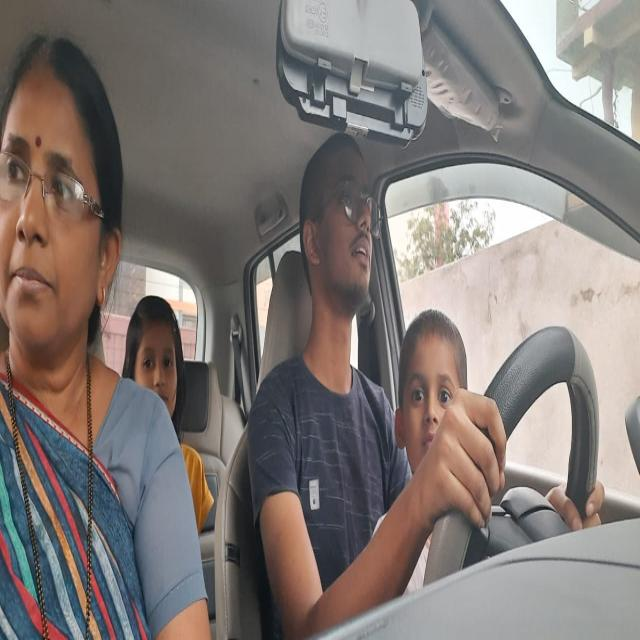child: (395, 310, 469, 485)
person: (4, 35, 129, 382), (300, 132, 376, 322), (125, 288, 183, 448)
